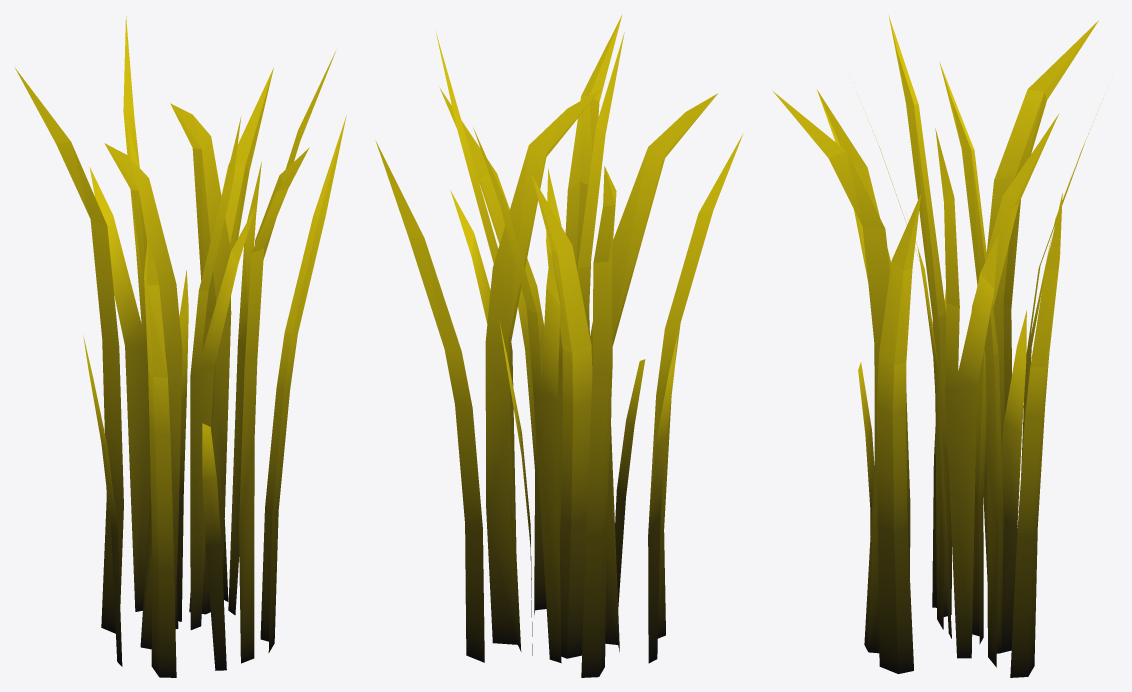
The model's file is Grass_Common_Tall.glb.
3 renders of one model, left to right at view 1: azimuth 30°, elevation 25°; view 2: azimuth 150°, elevation 25°; view 3: azimuth 270°, elevation 25°, orthographic. The views are drawn at different scales.
Size of the model in its own units: 0.8951 by 1.87 by 0.9931.
Materials: 1 (1 with a texture image).
